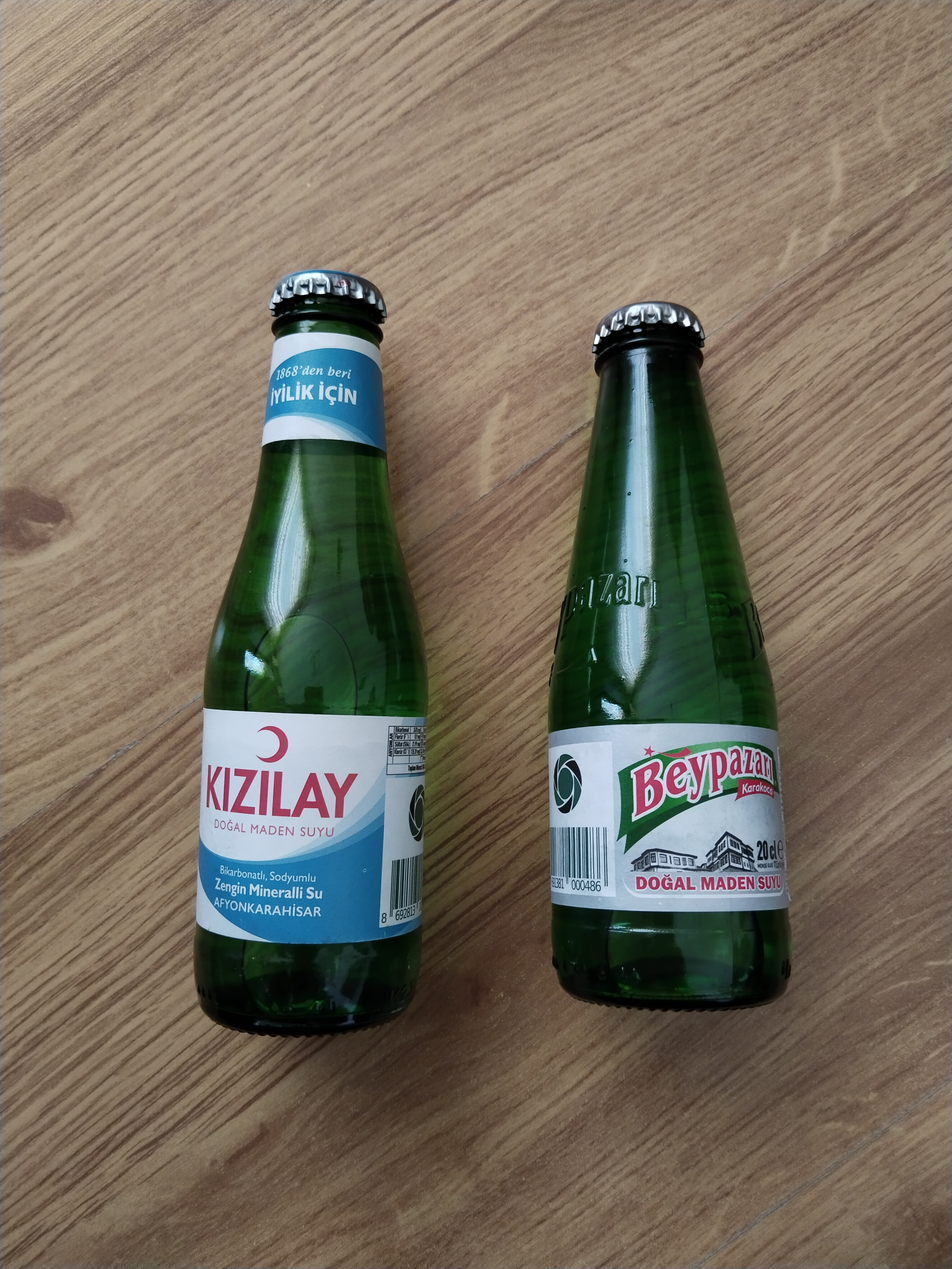beypazari_maden_suyu: (549, 304, 790, 1014)
kizilay_maden_suyu: (193, 272, 427, 1040)
